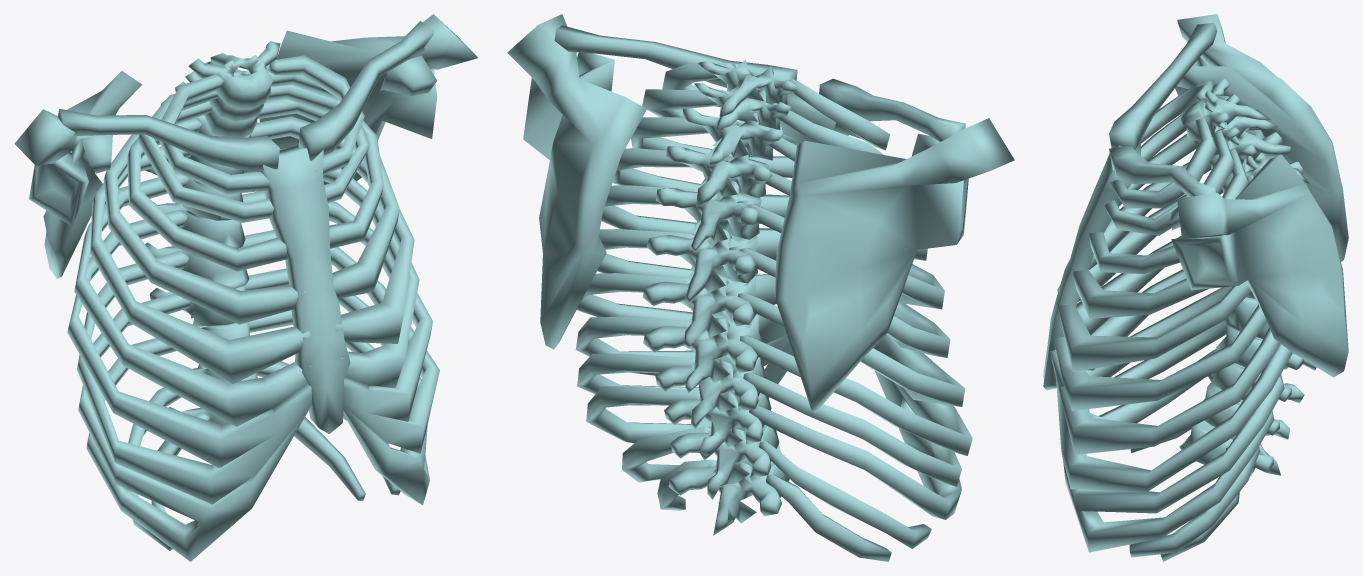
Rendered from skelly_thoracic_spine.fbx.
3 views of the same model, side by side, from view 1: azimuth 30°, elevation 25°; view 2: azimuth 150°, elevation 25°; view 3: azimuth 270°, elevation 25° (orthographic). The views are drawn at different scales.
Visible parts, largest first — view 1: skelly_thoracic_spine; view 2: skelly_thoracic_spine; view 3: skelly_thoracic_spine.
Part boxes in pixels (bbox=[...]): skelly_thoracic_spine: bbox=[14, 14, 477, 561]; skelly_thoracic_spine: bbox=[507, 14, 1014, 561]; skelly_thoracic_spine: bbox=[1043, 14, 1348, 561].
Bounding box in the file's own units: 38.91 × 37.86 × 24.78.
